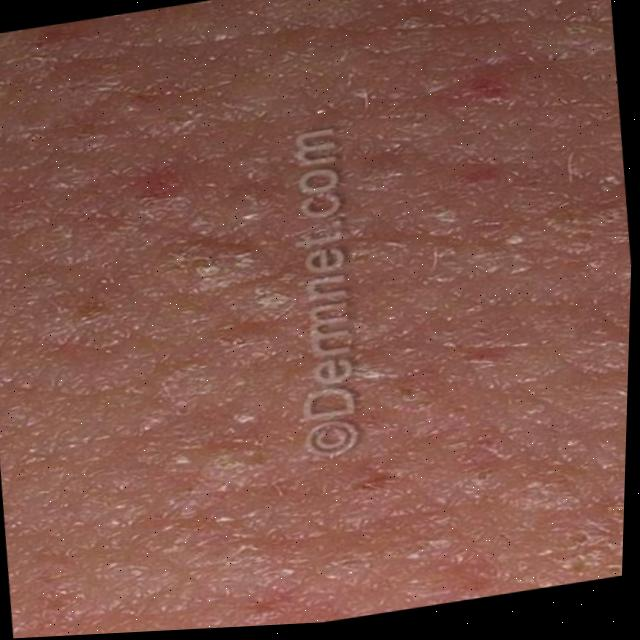Eczema: (53, 12, 574, 579)
